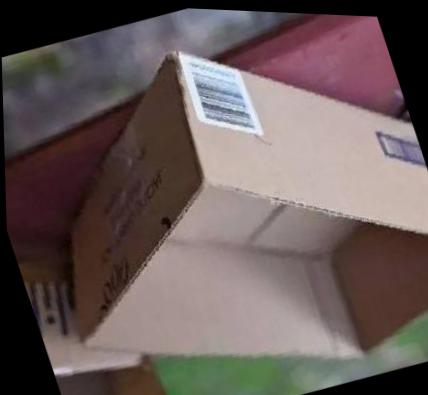cardboard: (0, 2, 427, 394)
